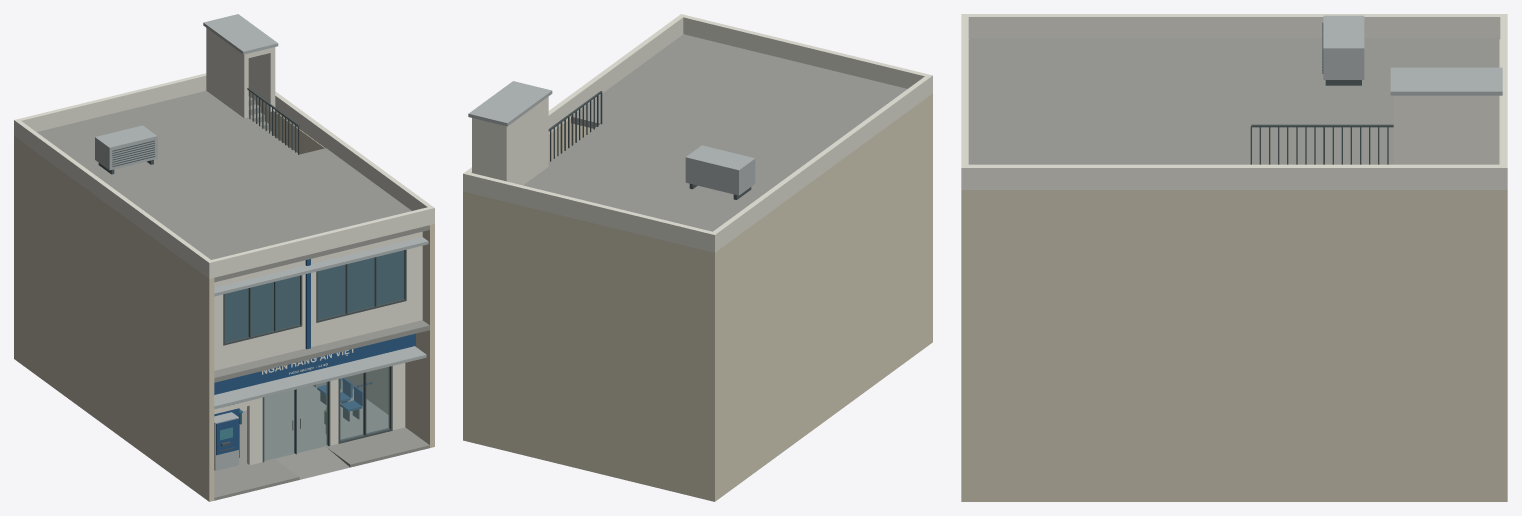
The model's file is VN_BNK_A_001.fbx.
The picture shows the model from 3 angles, left to right: view 1: azimuth 30°, elevation 25°; view 2: azimuth 150°, elevation 25°; view 3: azimuth 270°, elevation 25°; orthographic projection. The views are drawn at different scales.
Visible parts, largest first — view 1: VN_BNK_A_001__Party_Walls, VN_BNK_A_001__Roof_Membrane, VN_BNK_A_001__Roof_Parapet, VN_BNK_A_001__Office_Facade, VN_BNK_A_001__Ground_Slab, VN_BNK_A_001__Entrance_Landing, VN_BNK_A_001__Office_Window_B_Glass, VN_BNK_A_001__Roof_Stair_Head, VN_BNK_A_001__Bank_Entry_Glass, VN_BNK_A_001__Office_Window_A_Glass, VN_BNK_A_001__Entry_Canopy, VN_BNK_A_001__Lobby_Glazing_Glass (+17 smaller); view 2: VN_BNK_A_001__Party_Walls, VN_BNK_A_001__Roof_Membrane, VN_BNK_A_001__Roof_Parapet, VN_BNK_A_001__Roof_Stair_Head, VN_BNK_A_001__Roof_HVAC, VN_BNK_A_001__Stair_Head_Cover, VN_BNK_A_001__Stair_Guard_Posts_02; view 3: VN_BNK_A_001__Party_Walls, VN_BNK_A_001__Roof_Membrane, VN_BNK_A_001__Roof_Parapet, VN_BNK_A_001__Roof_Stair_Head, VN_BNK_A_001__Stair_Head_Cover, VN_BNK_A_001__Roof_HVAC, VN_BNK_A_001__Stair_Guard_Posts_02.
Boxes of the visible parts, x1=… form: VN_BNK_A_001__Party_Walls: x1=14, y1=102, x2=434, y2=501; VN_BNK_A_001__Roof_Membrane: x1=37, y1=90, x2=411, y2=259; VN_BNK_A_001__Roof_Parapet: x1=14, y1=73, x2=434, y2=278; VN_BNK_A_001__Office_Facade: x1=214, y1=231, x2=422, y2=370; VN_BNK_A_001__Ground_Slab: x1=214, y1=381, x2=388, y2=473; VN_BNK_A_001__Entrance_Landing: x1=214, y1=427, x2=429, y2=500; VN_BNK_A_001__Office_Window_B_Glass: x1=318, y1=250, x2=404, y2=319; VN_BNK_A_001__Roof_Stair_Head: x1=206, y1=28, x2=275, y2=118; VN_BNK_A_001__Bank_Entry_Glass: x1=264, y1=382, x2=327, y2=460; VN_BNK_A_001__Office_Window_A_Glass: x1=225, y1=275, x2=299, y2=342; VN_BNK_A_001__Entry_Canopy: x1=214, y1=346, x2=426, y2=409; VN_BNK_A_001__Lobby_Glazing_Glass: x1=340, y1=367, x2=389, y2=440; VN_BNK_A_001__Party_Walls: x1=463, y1=93, x2=932, y2=501; VN_BNK_A_001__Roof_Membrane: x1=523, y1=34, x2=907, y2=231; VN_BNK_A_001__Roof_Parapet: x1=463, y1=14, x2=932, y2=252; VN_BNK_A_001__Roof_Stair_Head: x1=472, y1=96, x2=548, y2=185; VN_BNK_A_001__Roof_HVAC: x1=685, y1=145, x2=755, y2=195; VN_BNK_A_001__Stair_Head_Cover: x1=468, y1=81, x2=552, y2=126; VN_BNK_A_001__Stair_Guard_Posts_02: x1=550, y1=93, x2=602, y2=161; VN_BNK_A_001__Party_Walls: x1=961, y1=39, x2=1507, y2=501; VN_BNK_A_001__Roof_Membrane: x1=969, y1=38, x2=1499, y2=164; VN_BNK_A_001__Roof_Parapet: x1=961, y1=14, x2=1507, y2=189; VN_BNK_A_001__Roof_Stair_Head: x1=1393, y1=95, x2=1499, y2=164; VN_BNK_A_001__Stair_Head_Cover: x1=1390, y1=67, x2=1502, y2=95; VN_BNK_A_001__Roof_HVAC: x1=1323, y1=15, x2=1364, y2=79; VN_BNK_A_001__Stair_Guard_Posts_02: x1=1250, y1=126, x2=1388, y2=164.
Size of the model in its own units: 8 by 9.9 by 12.
